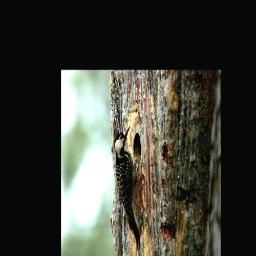Woodpecker: (110, 122, 147, 256)
